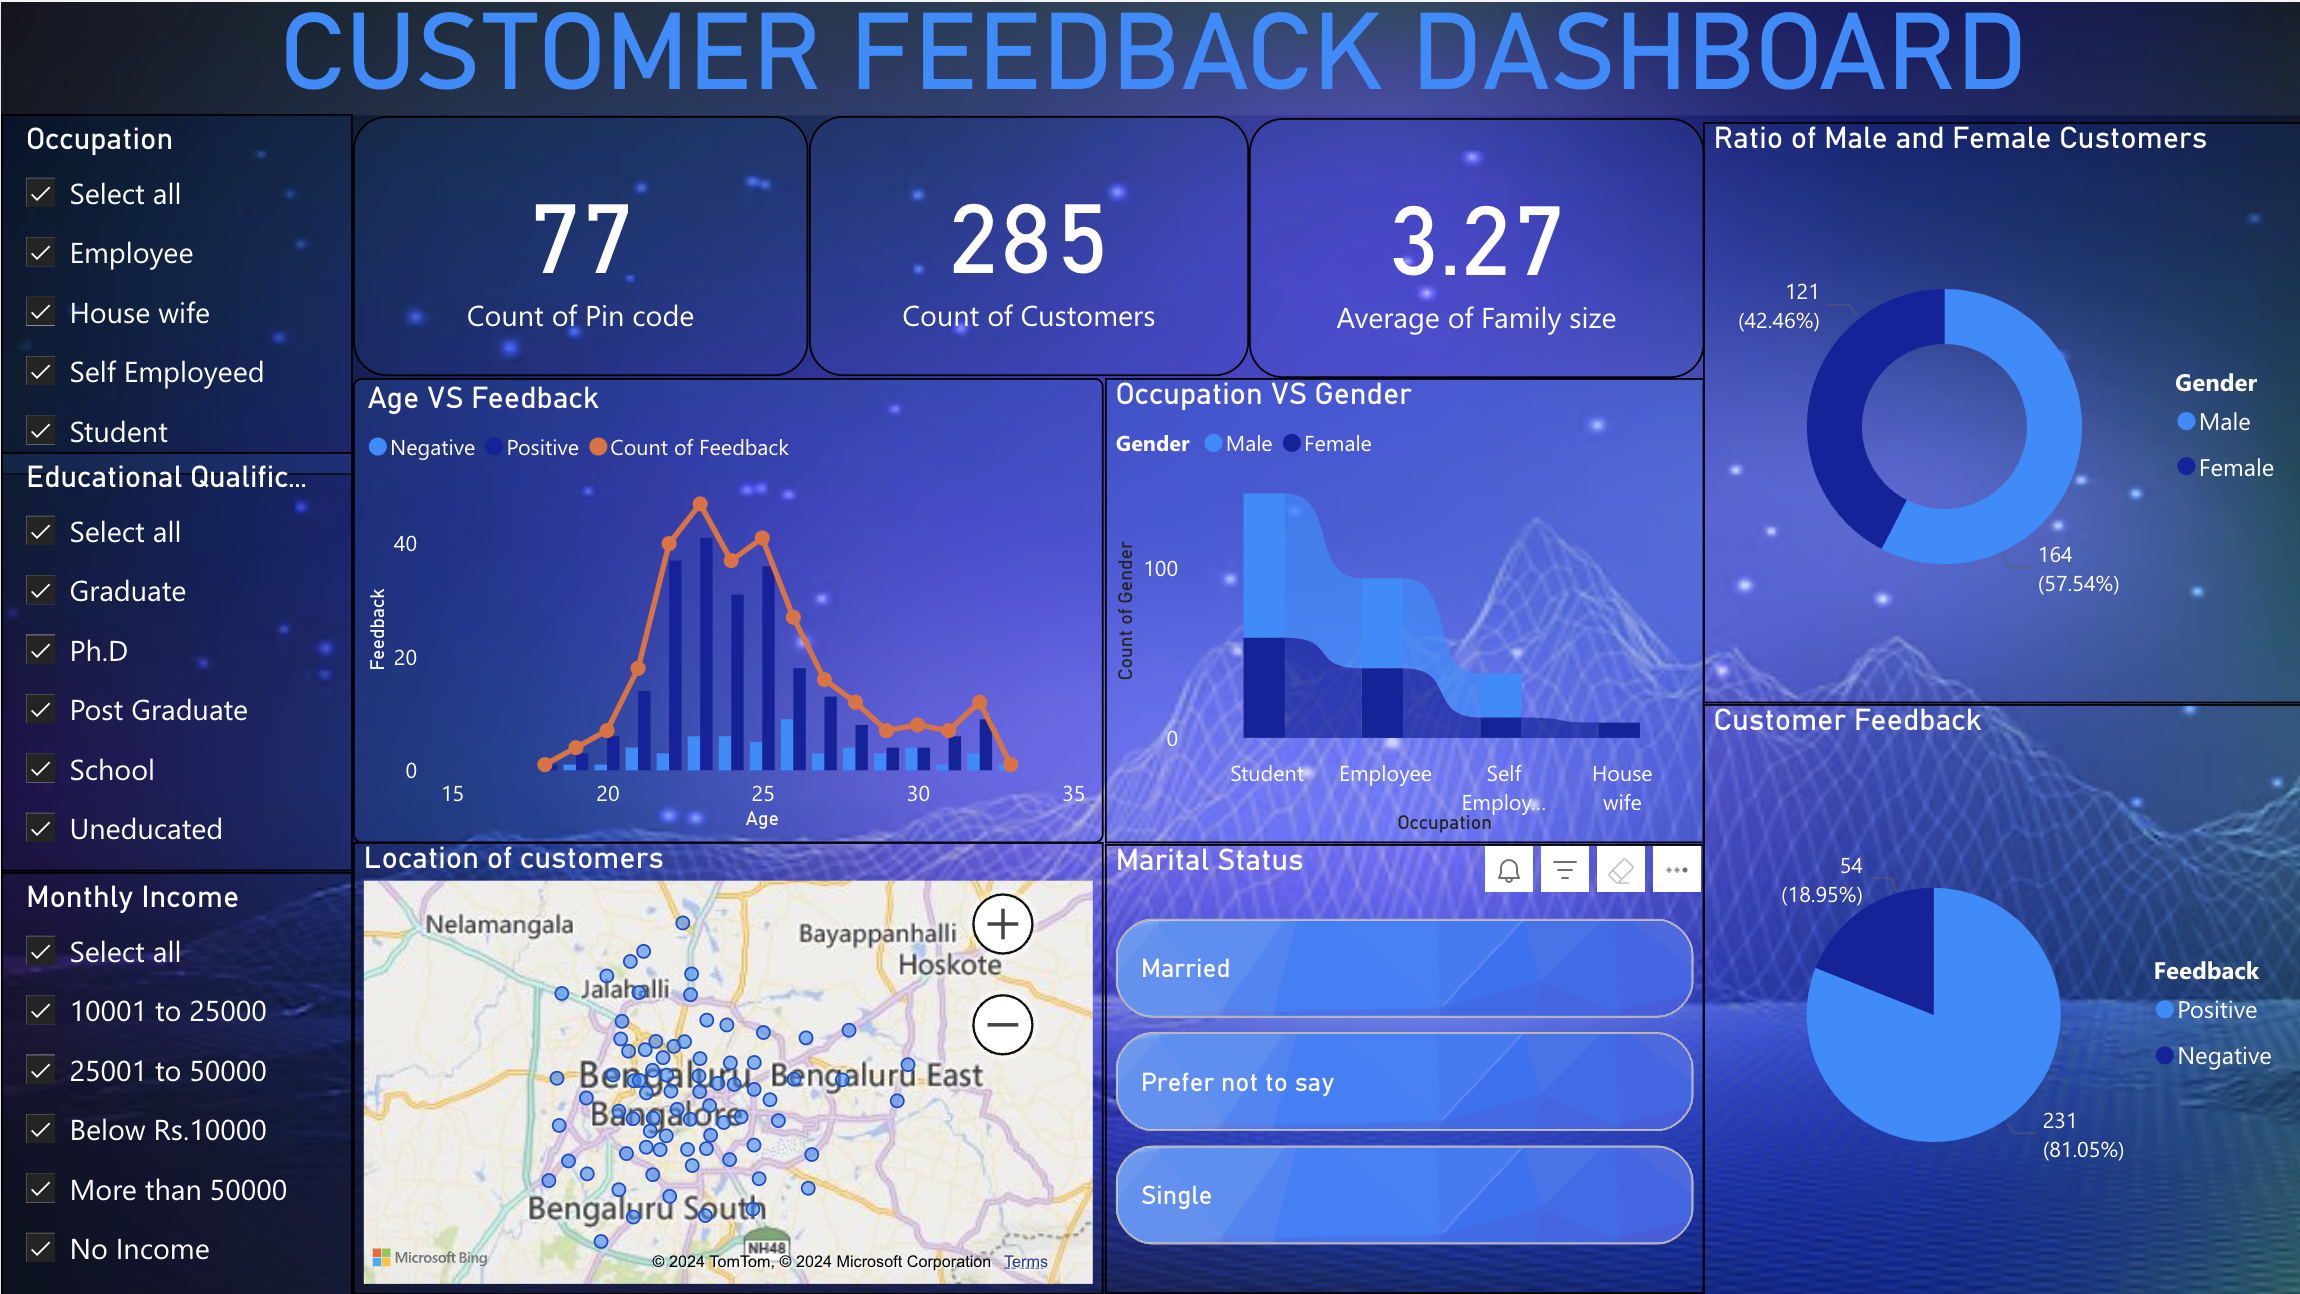

The dashboard page shown, as its layout file describes it:
{"tool":"powerbi","page":{"name":"Page 1","canvas":[1280,720],"ordinal":0},"visuals":[{"type":"textbox","title":"CUSTOMER FEEDBACK DASHBOARD","box":[0,0,1280.3,63.1],"z":0},{"type":"ribbonChart","title":"Occupation VS Gender","fields":{"Category":["onlinefoods.Occupation"],"Y":["CountNonNull(onlinefoods.Gender)"],"Series":["onlinefoods.Gender"]},"box":[612.9,208.6,332.9,258.6],"z":1000},{"type":"card","fields":{"Values":["CountNonNull(onlinefoods.Family size)"]},"box":[448.6,62.9,244.3,144.3],"z":2000},{"type":"pieChart","title":"Customer Feedback","fields":{"Series":["onlinefoods.Feedback"],"Category":["onlinefoods.Feedback"],"Y":["CountNonNull(onlinefoods.Feedback)"]},"box":[945.7,390,334.3,330],"z":3000},{"type":"card","fields":{"Values":["Count(onlinefoods.Pin code)"]},"box":[195.7,62.9,252.9,144.3],"z":4000},{"type":"map","title":"Location of customers","fields":{"Y":["onlinefoods.latitude"],"X":["onlinefoods.longitude"]},"box":[195.7,467.1,417.1,251.4],"z":5000},{"type":"donutChart","title":"Ratio of Male and Female Customers","fields":{"Category":["onlinefoods.Gender"],"Y":["CountNonNull(onlinefoods.Gender)"],"Series":["onlinefoods.Gender"]},"box":[945.7,67.1,334.3,322.9],"z":6000},{"type":"slicer","fields":{"Values":["onlinefoods.Occupation"]},"box":[0,62.7,195.4,200.3],"z":7000},{"type":"card","fields":{"Values":["Avg(onlinefoods.Family size)"]},"box":[692.9,64.3,252.9,144.3],"z":8000},{"type":"slicer","fields":{"Values":["onlinefoods.Educational Qualifications"]},"box":[0,250,195.7,232.9],"z":9000},{"type":"slicer","fields":{"Values":["onlinefoods.Monthly Income"]},"box":[0,482.9,195.7,237.1],"z":10000},{"type":"lineClusteredColumnComboChart","title":"Age VS Feedback","fields":{"Category":["onlinefoods.Age"],"Series":["onlinefoods.Feedback"],"Y":["CountNonNull(onlinefoods.Feedback)"],"Y2":["CountNonNull(onlinefoods.Feedback)"]},"box":[195.7,208.6,417.1,258.6],"z":11000},{"type":"advancedSlicerVisual","fields":{"Values":["onlinefoods.Marital Status"]},"box":[613,468,333,250],"z":12000}]}

Visuals, with their boxes in screenshot pixels (x1, y1, x2, y2), scaled from the page's 1280x720 canvas onto the 2300x1294 screenshot:
"CUSTOMER FEEDBACK DASHBOARD" textbox: bbox=(0, 0, 2299, 113)
"Occupation VS Gender" ribbonChart: bbox=(1101, 375, 1699, 840)
card - CountNonNull(onlinefoods.Family size): bbox=(806, 113, 1245, 372)
"Customer Feedback" pieChart: bbox=(1699, 701, 2299, 1293)
card - Count(onlinefoods.Pin code): bbox=(352, 113, 806, 372)
"Location of customers" map: bbox=(352, 839, 1101, 1291)
"Ratio of Male and Female Customers" donutChart: bbox=(1699, 121, 2299, 701)
slicer - onlinefoods.Occupation: bbox=(0, 113, 351, 473)
card - Avg(onlinefoods.Family size): bbox=(1245, 116, 1699, 375)
slicer - onlinefoods.Educational Qualifications: bbox=(0, 449, 352, 868)
slicer - onlinefoods.Monthly Income: bbox=(0, 868, 352, 1293)
"Age VS Feedback" lineClusteredColumnComboChart: bbox=(352, 375, 1101, 840)
advancedSlicerVisual - onlinefoods.Marital Status: bbox=(1101, 841, 1700, 1290)
